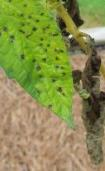Tomato Septoria leaf spot: (0, 0, 81, 129)
